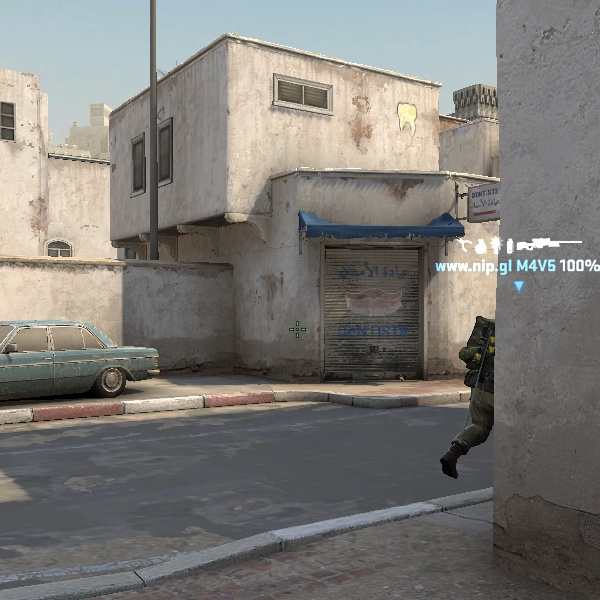ct_body: (441, 312, 499, 477)
